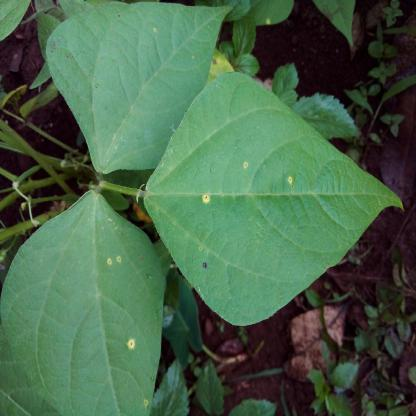Beans_Rust: (144, 70, 406, 328), (0, 186, 166, 416), (48, 5, 237, 174)
